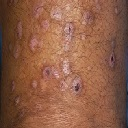Dystrophic Bullosa: (28, 10, 94, 92)
